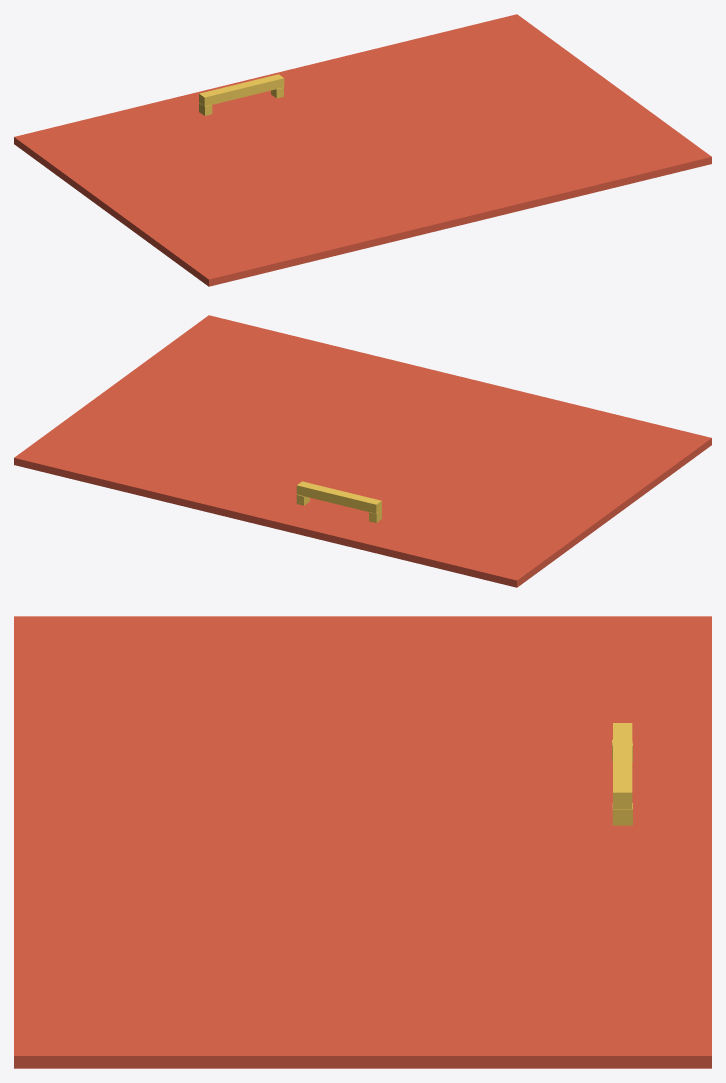
File: sliding_door.fbx
3 views of the same model, one above another, from view 1: azimuth 30°, elevation 25°; view 2: azimuth 150°, elevation 25°; view 3: azimuth 270°, elevation 25° (orthographic). The views are drawn at different scales.
Parts seen in each view (by area): view 1: Door, Cube.003; view 2: Door, Cube.003; view 3: Door, Cube.003.
Part boxes in pixels (x1,y1,x2,y2): Door: (14,14,711,286); Cube.003: (199,74,284,115); Door: (14,315,711,587); Cube.003: (296,481,381,522); Door: (14,616,711,1068); Cube.003: (612,723,632,825).
Size of the model in its own units: 1567 by 80.38 by 1051.
